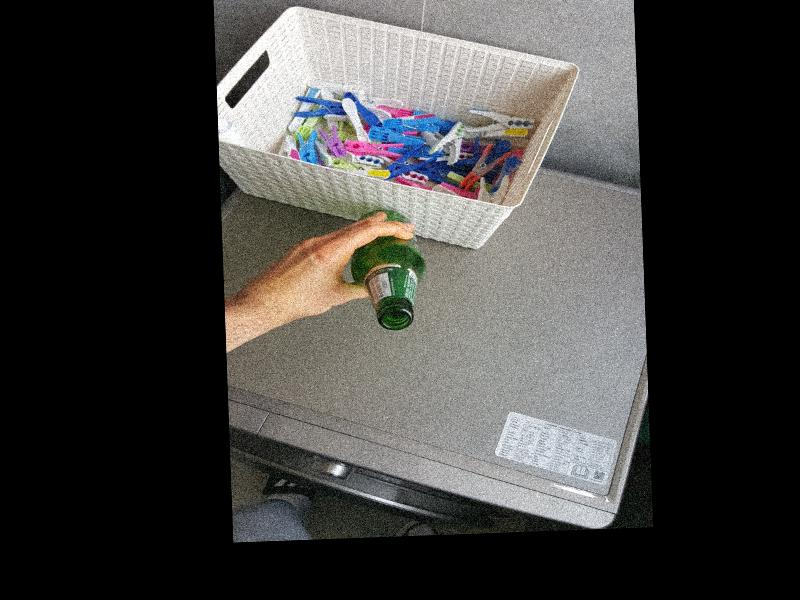Beer: (349, 208, 427, 331)
